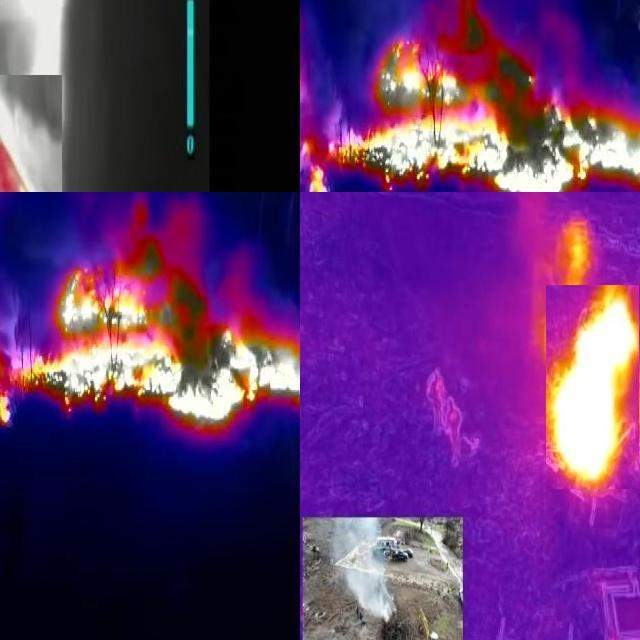fire: (308, 7, 640, 193), (25, 251, 301, 427), (547, 286, 640, 490), (1, 76, 63, 193), (1, 335, 21, 427)
